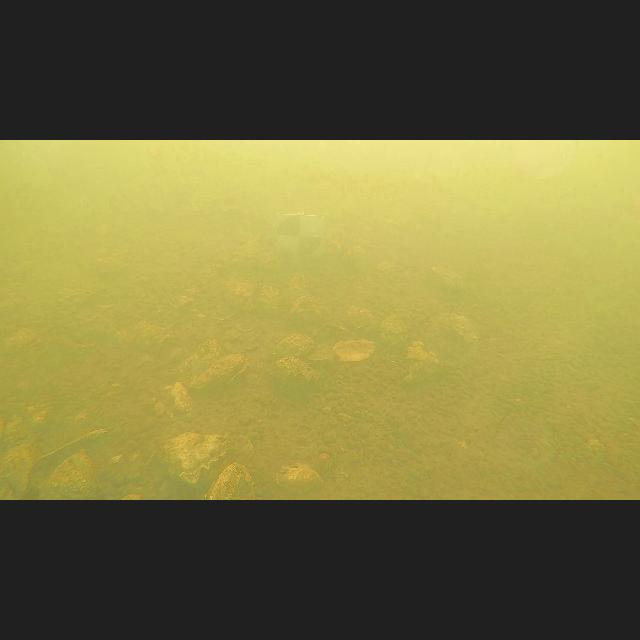Oyster-Closed: (163, 429, 233, 486), (44, 447, 101, 500), (57, 307, 120, 346), (187, 352, 246, 393), (0, 431, 36, 497), (276, 357, 337, 394), (202, 462, 261, 500), (403, 339, 446, 386), (123, 320, 174, 358), (178, 339, 223, 381), (272, 464, 329, 496), (258, 279, 302, 319), (274, 334, 331, 362), (423, 264, 470, 296), (339, 308, 383, 342), (288, 290, 329, 325), (440, 314, 482, 348), (6, 329, 50, 355), (343, 245, 379, 270), (291, 273, 314, 301), (231, 282, 259, 305)
Oyster-Open: (28, 427, 112, 474), (315, 339, 379, 363), (235, 317, 258, 328)
